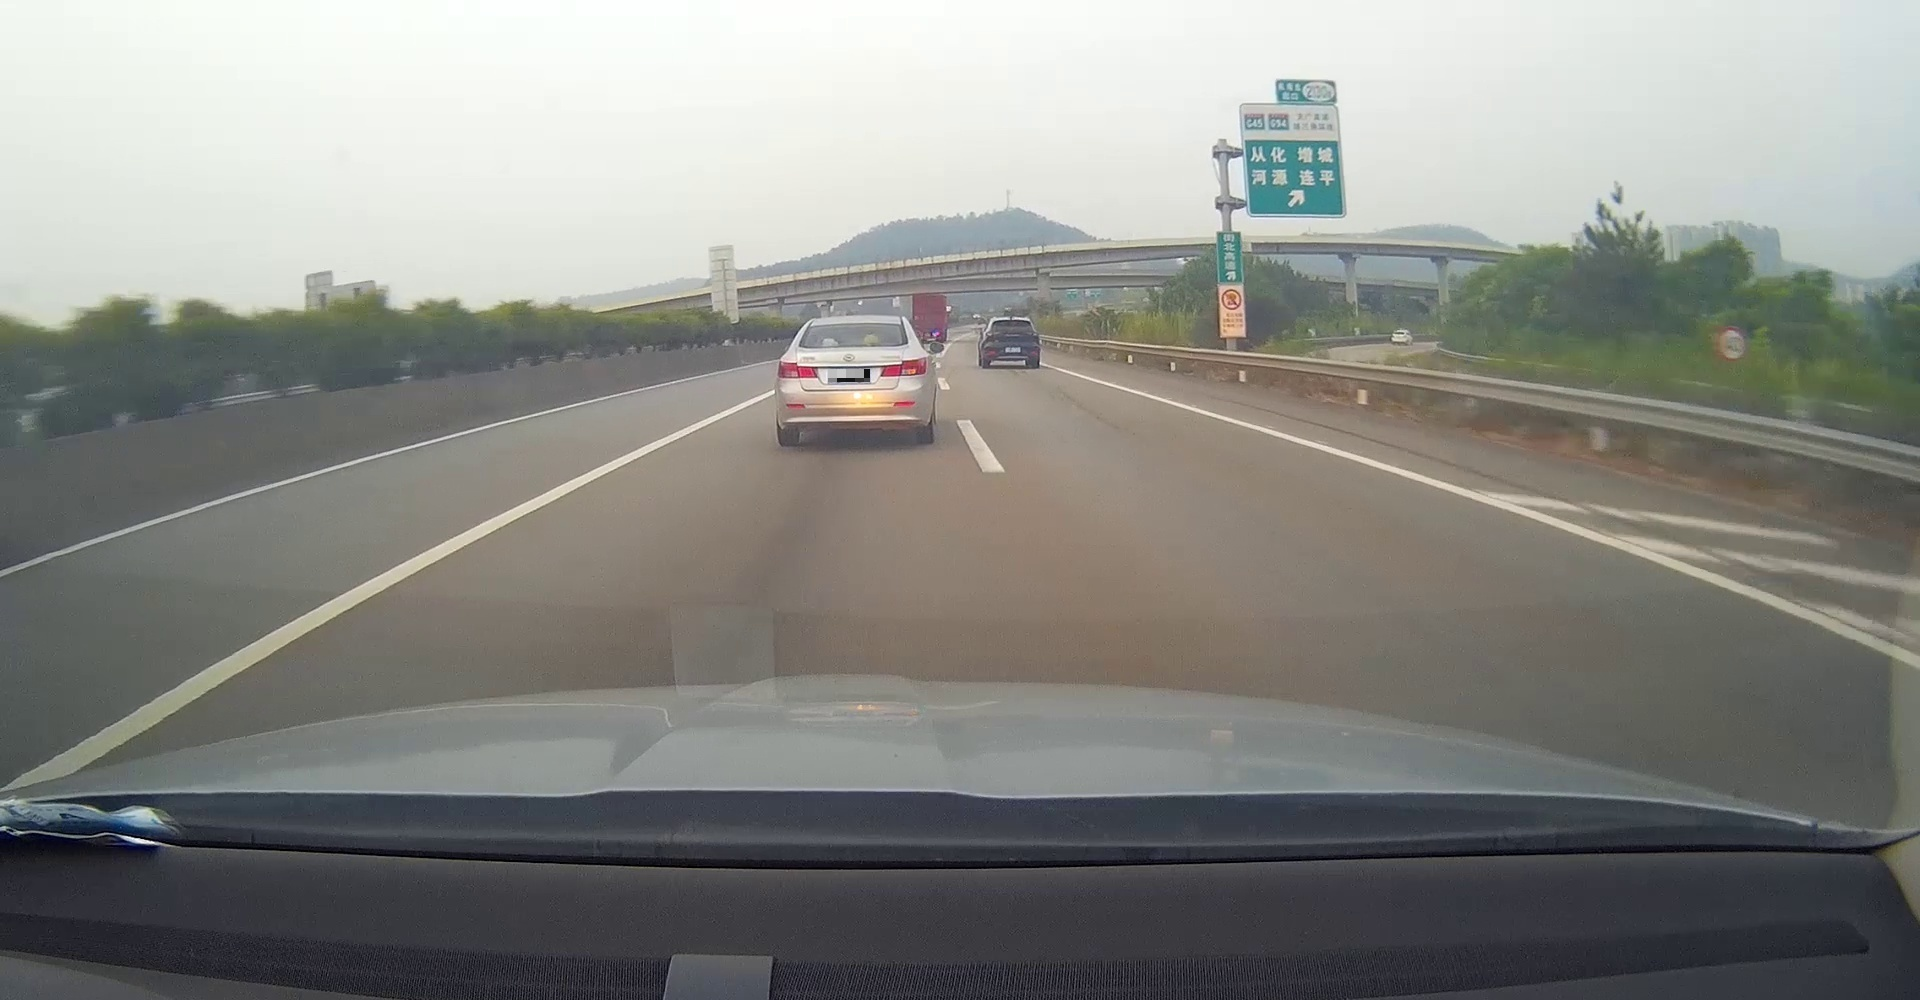L_light: (778, 360, 817, 378), (985, 332, 998, 338)
R_light: (881, 357, 926, 377), (1026, 332, 1039, 338)
T_light: (841, 341, 858, 346), (1007, 319, 1015, 322)
day-no: (982, 316, 1043, 368)
day-right: (775, 313, 935, 445)
plate_1: (828, 369, 870, 382)
